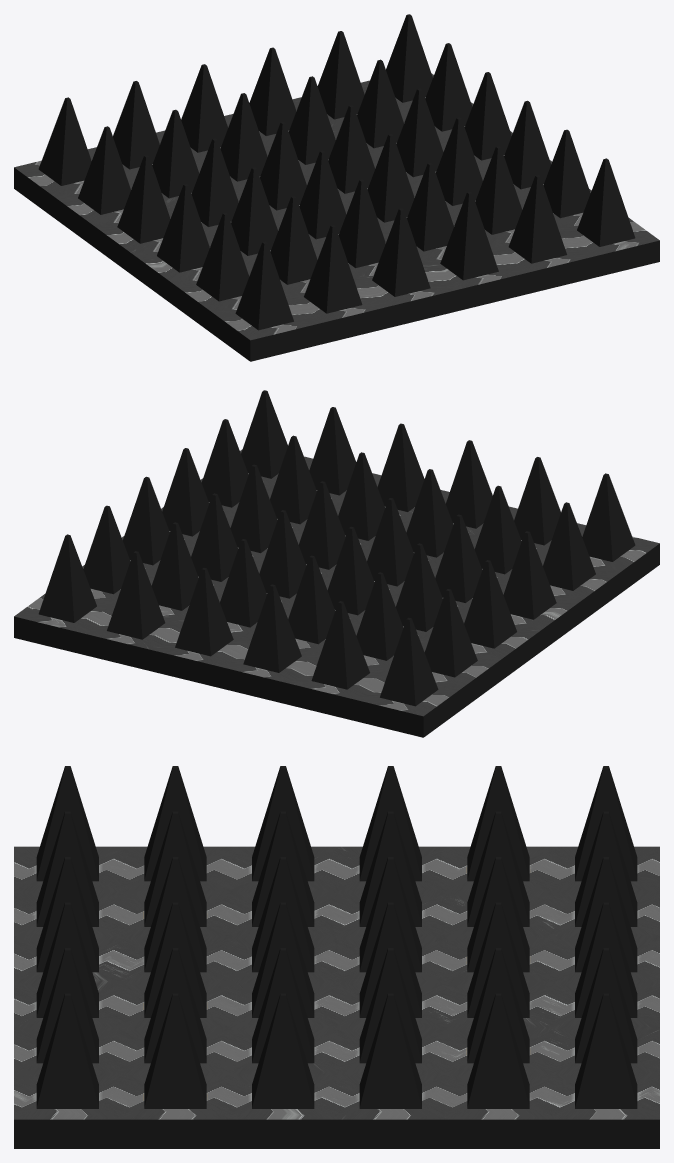
Rendered from spike land.fbx.
3 views of the same model, one above another, from view 1: azimuth 30°, elevation 25°; view 2: azimuth 150°, elevation 25°; view 3: azimuth 270°, elevation 25° (orthographic). The views are drawn at different scales.
Parts seen in each view (by area): view 1: spike tile; view 2: spike tile; view 3: spike tile.
Boxes of the visible parts, x1,y1,x2,y2 form: spike tile: (14, 14, 659, 361); spike tile: (14, 390, 659, 737); spike tile: (14, 766, 659, 1148).
Size of the model in its own units: 200 by 44.92 by 200.
